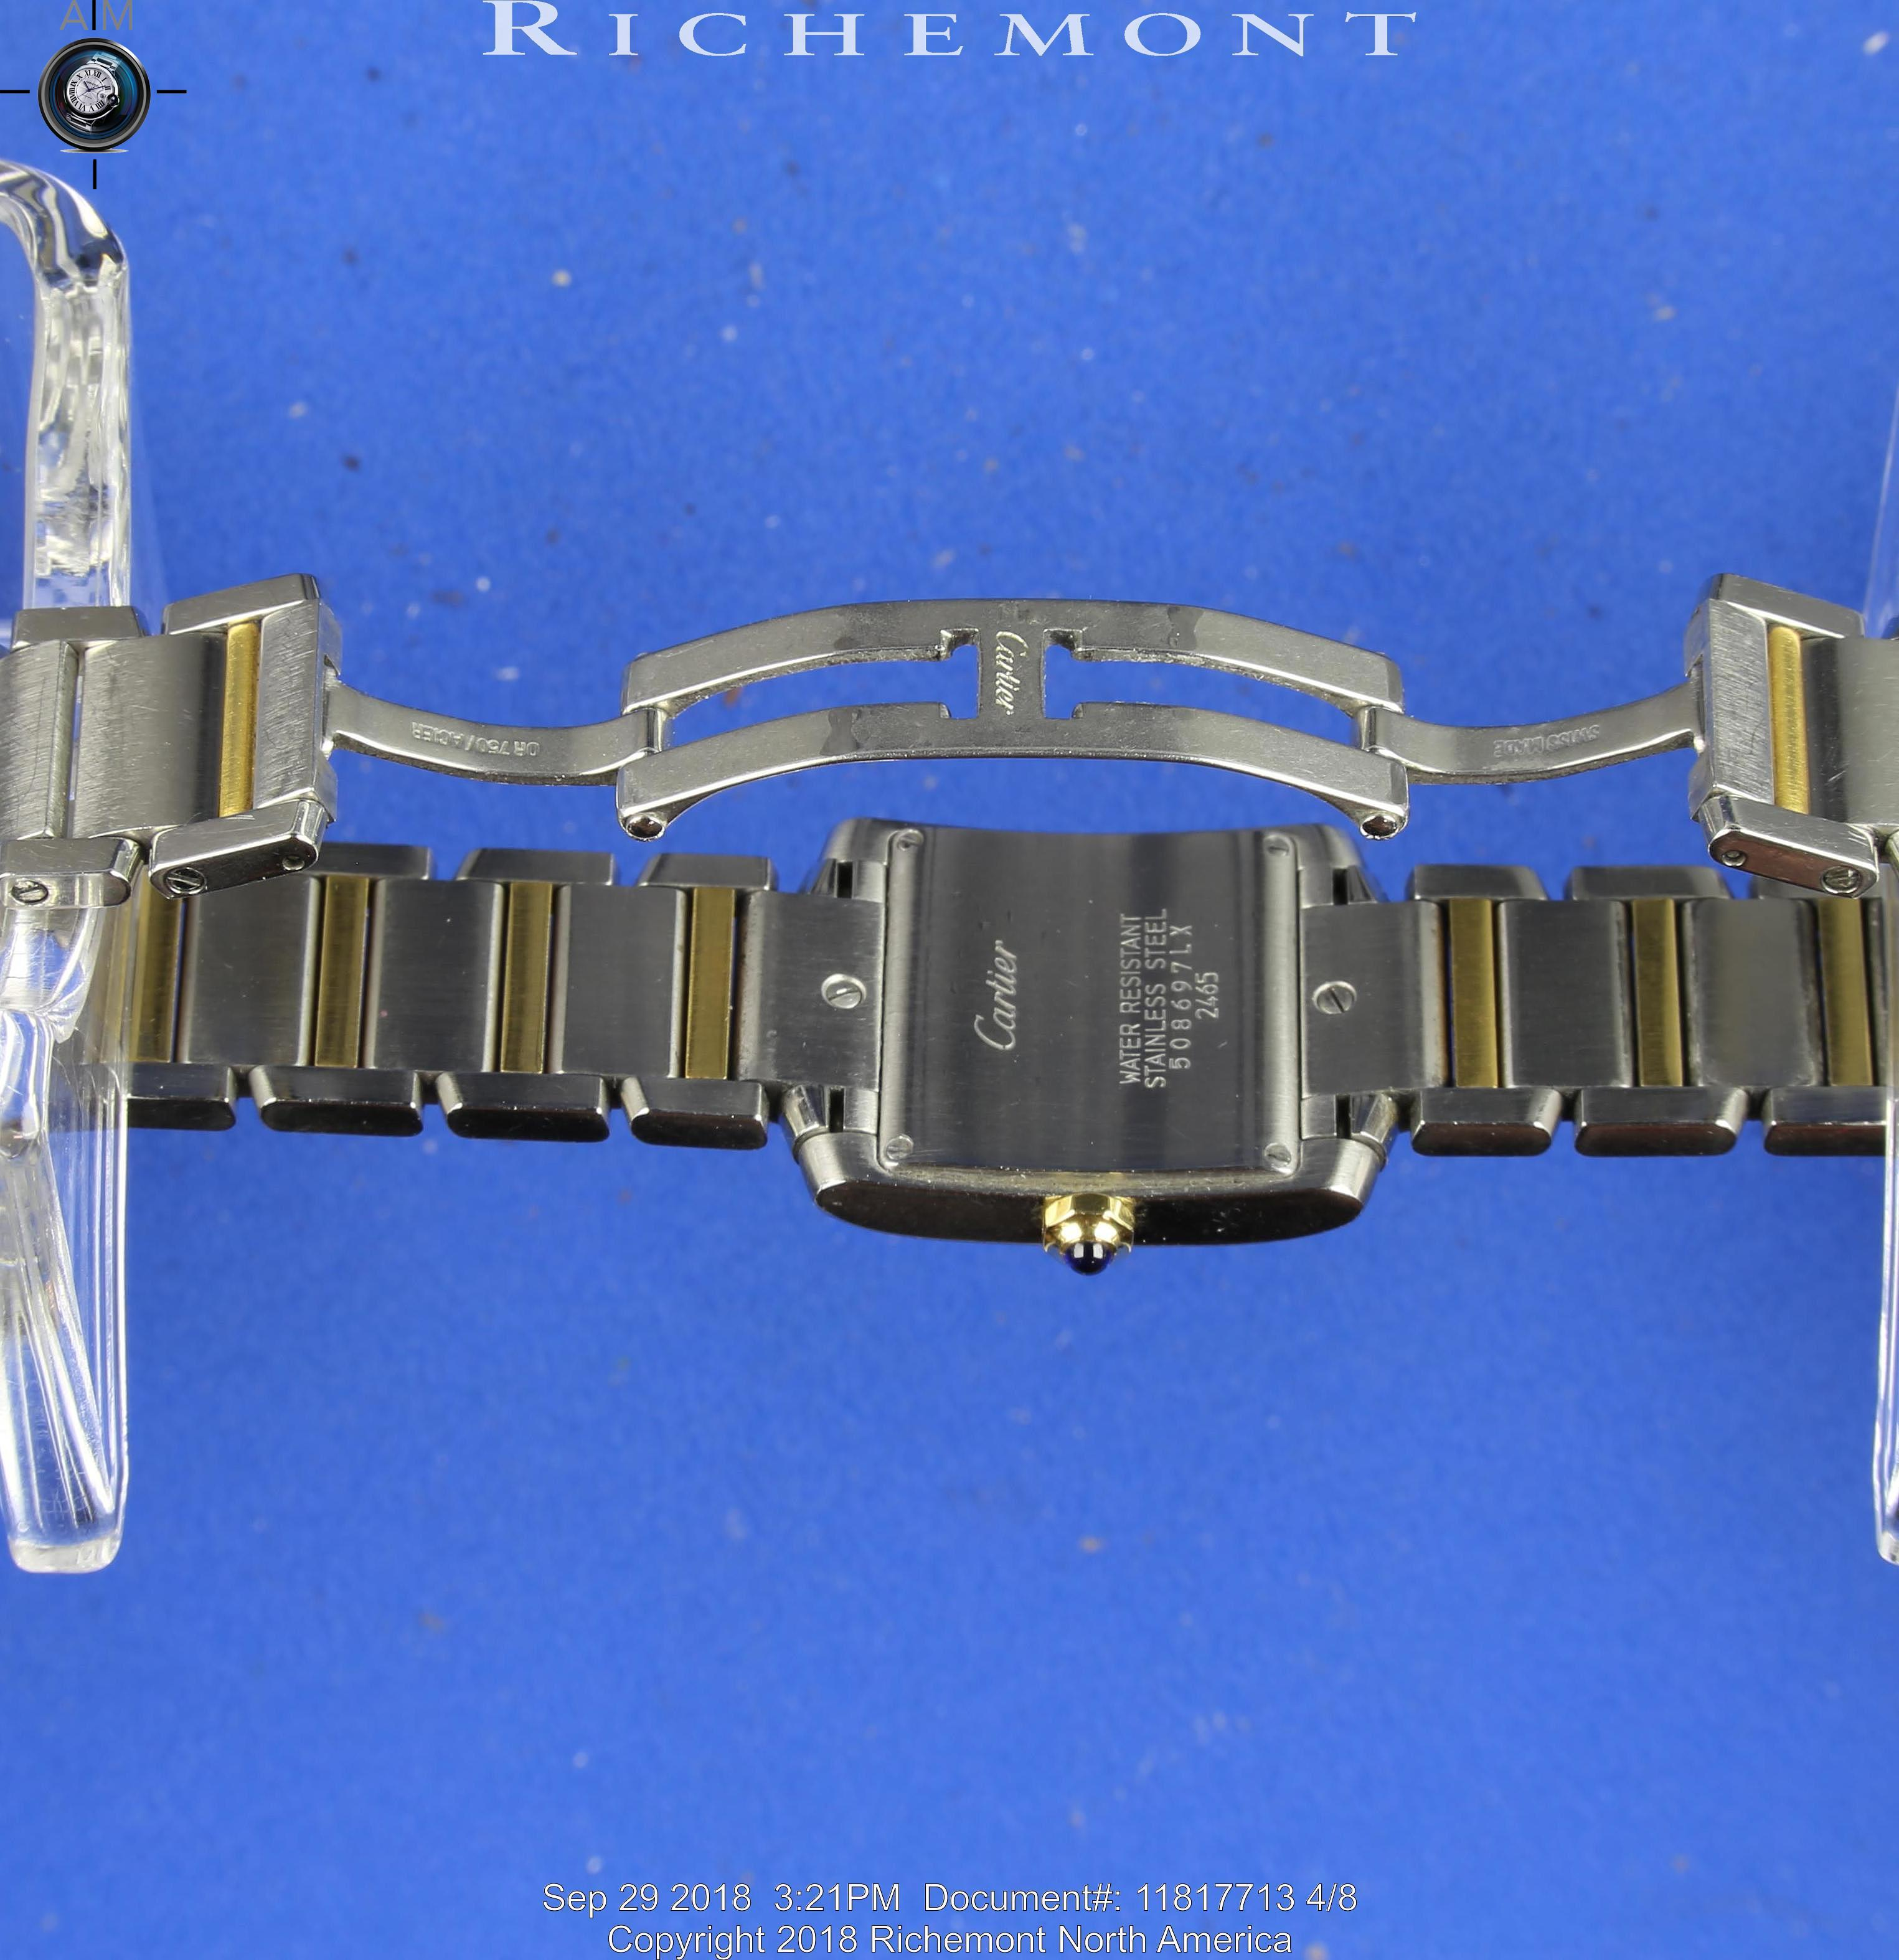watchback: (849, 800, 1365, 1195)
